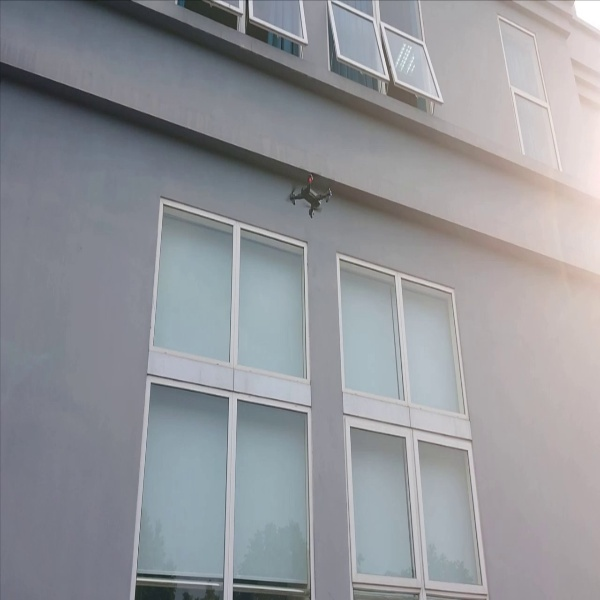drone: (280, 166, 344, 220)
